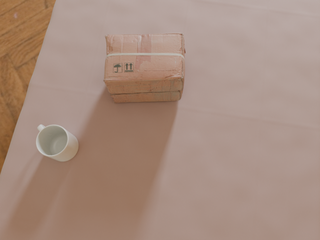box: (104, 33, 185, 103)
cup: (36, 125, 78, 161)
